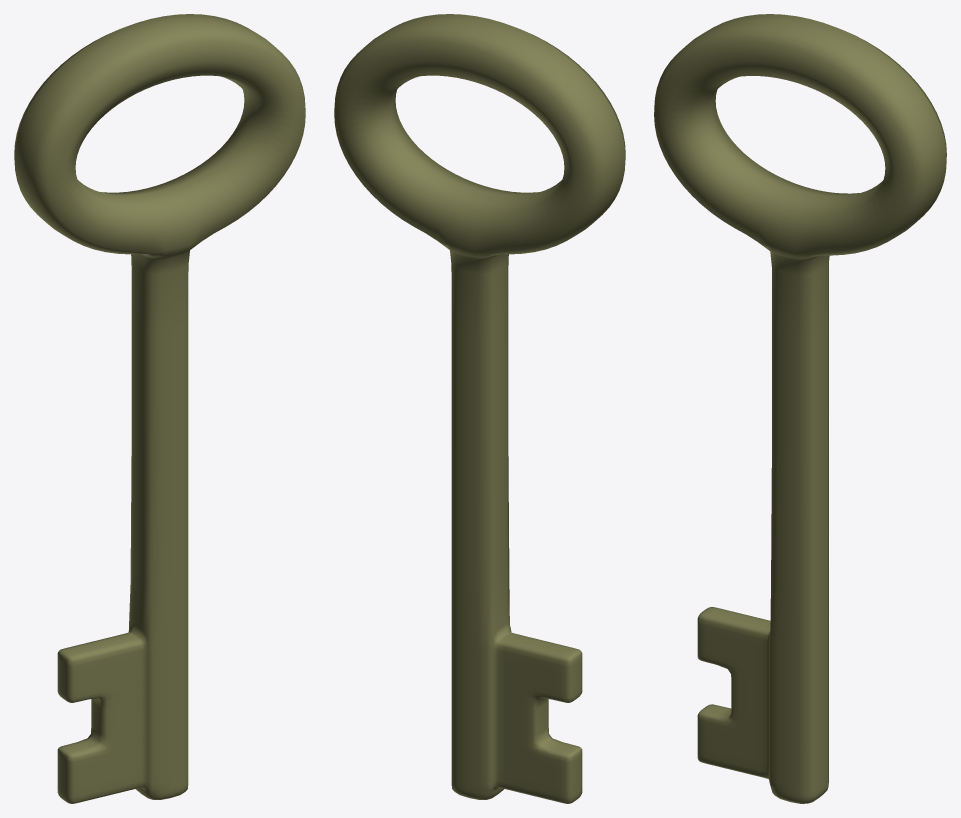
Rendered from Key.fbx.
3 views of the same model, side by side, from view 1: azimuth 30°, elevation 25°; view 2: azimuth 150°, elevation 25°; view 3: azimuth 330°, elevation 25° (orthographic).
Parts seen in each view (by area): view 1: Key; view 2: Key; view 3: Key.
Part boxes in pixels (left/top/right/bottom): Key: left=14, top=14, right=305, bottom=803; Key: left=334, top=14, right=625, bottom=803; Key: left=654, top=14, right=946, bottom=803.
Size of the model in its own units: 64.36 by 172 by 15.46.
